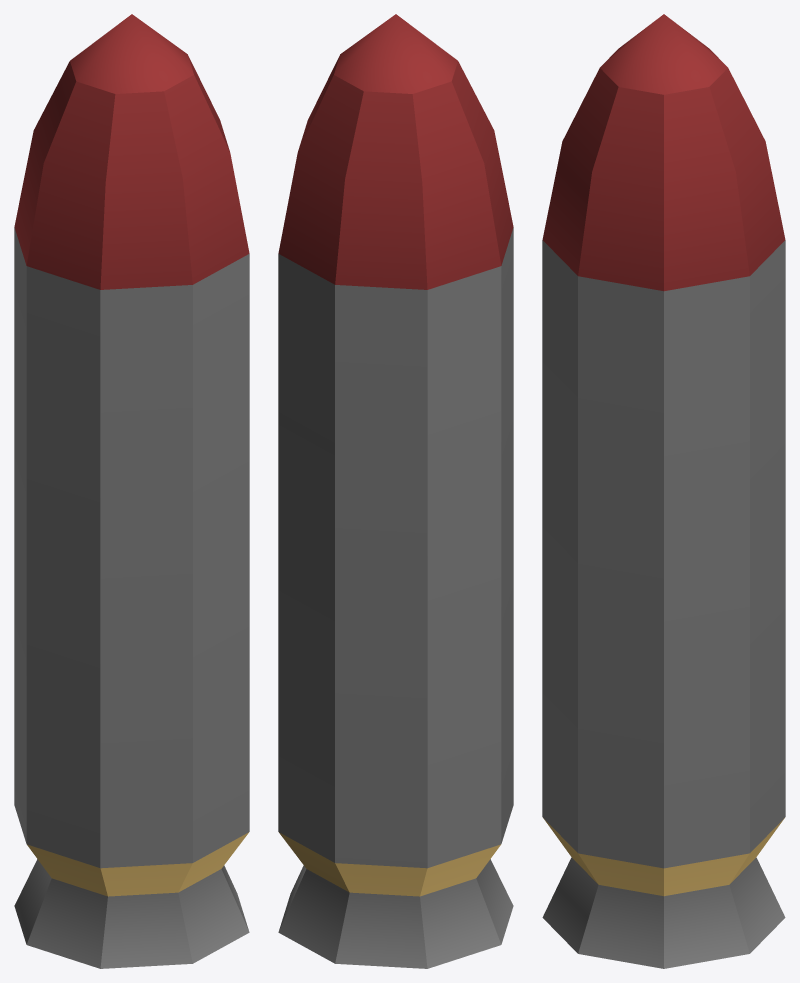
Rendered from Bala.fbx.
The picture shows the model from 3 angles, left to right: view 1: azimuth 30°, elevation 25°; view 2: azimuth 150°, elevation 25°; view 3: azimuth 270°, elevation 25°; orthographic projection.
Parts seen in each view (by area): view 1: pCylinder1; view 2: pCylinder1; view 3: pCylinder1.
Boxes of the visible parts, x1,y1,x2,y2 form: pCylinder1: [14, 14, 249, 968]; pCylinder1: [278, 14, 513, 968]; pCylinder1: [542, 14, 785, 968].
Bounding box in the file's own units: 1.26 × 5.18 × 1.26.
